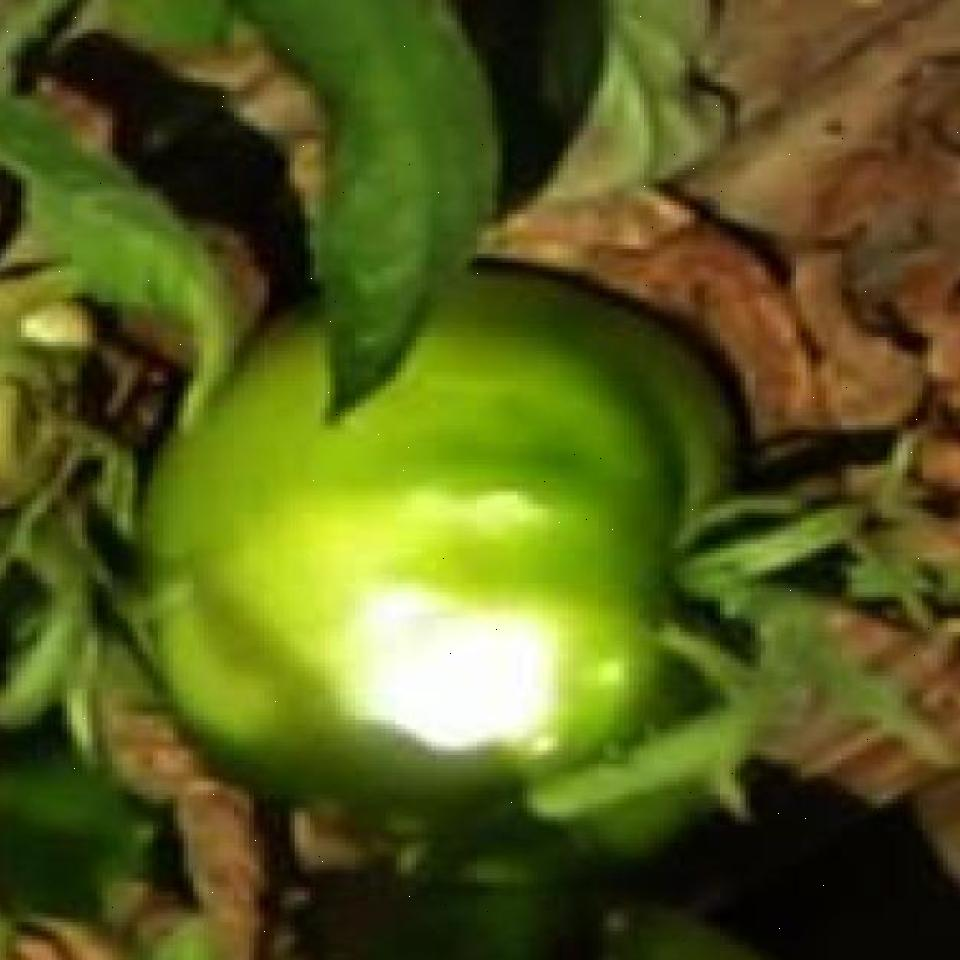Sunscald: (338, 588, 576, 768)
